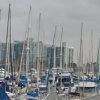Boat: (56, 67, 96, 97)
